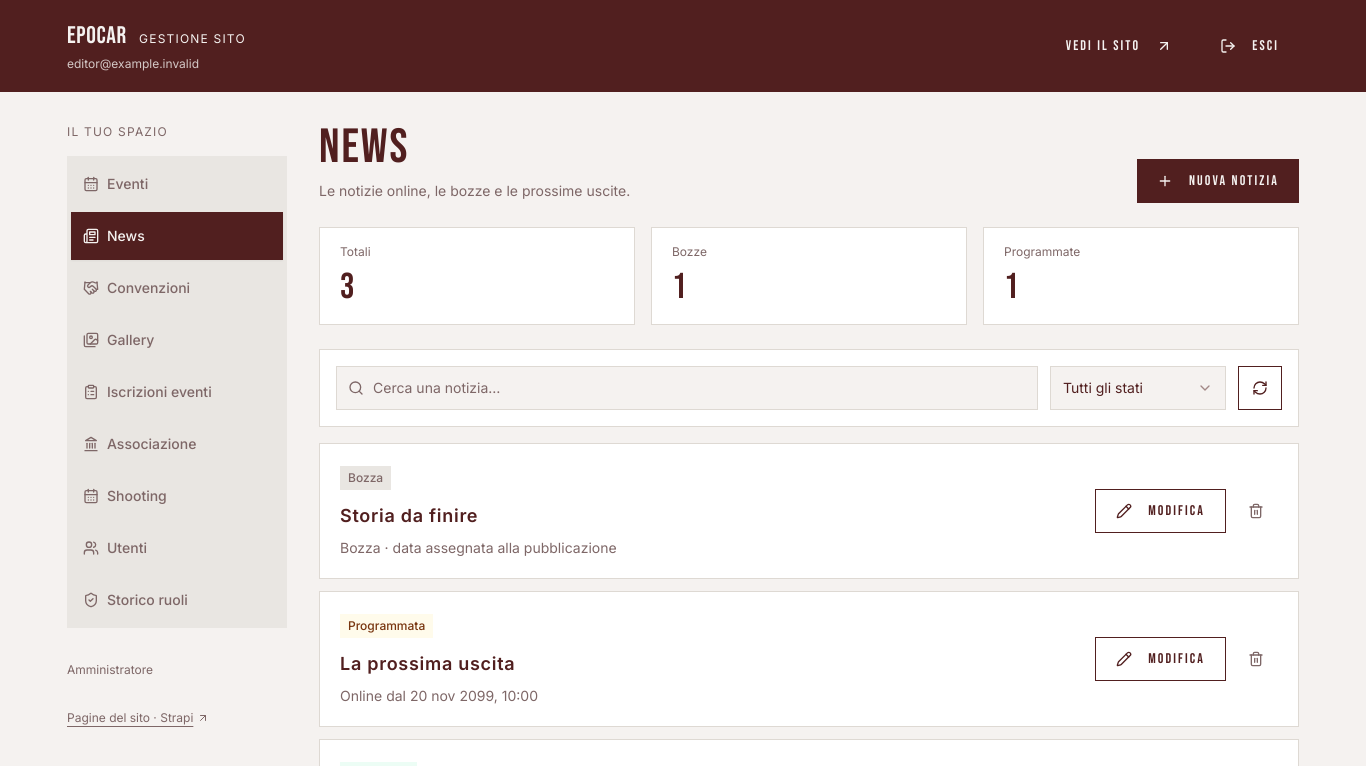
Test: mobile-first content dashboard › opens the correct section after editing and searches/filter statuses including scheduled news
Check: the heading "La prossima uscita" is shown, box [340,653,515,674]
Check: the text "Programmata" is shown, box [340,614,433,638]
Press ArrowDown in the dropdown named "Filtra per stato", box [1050,366,1226,410]
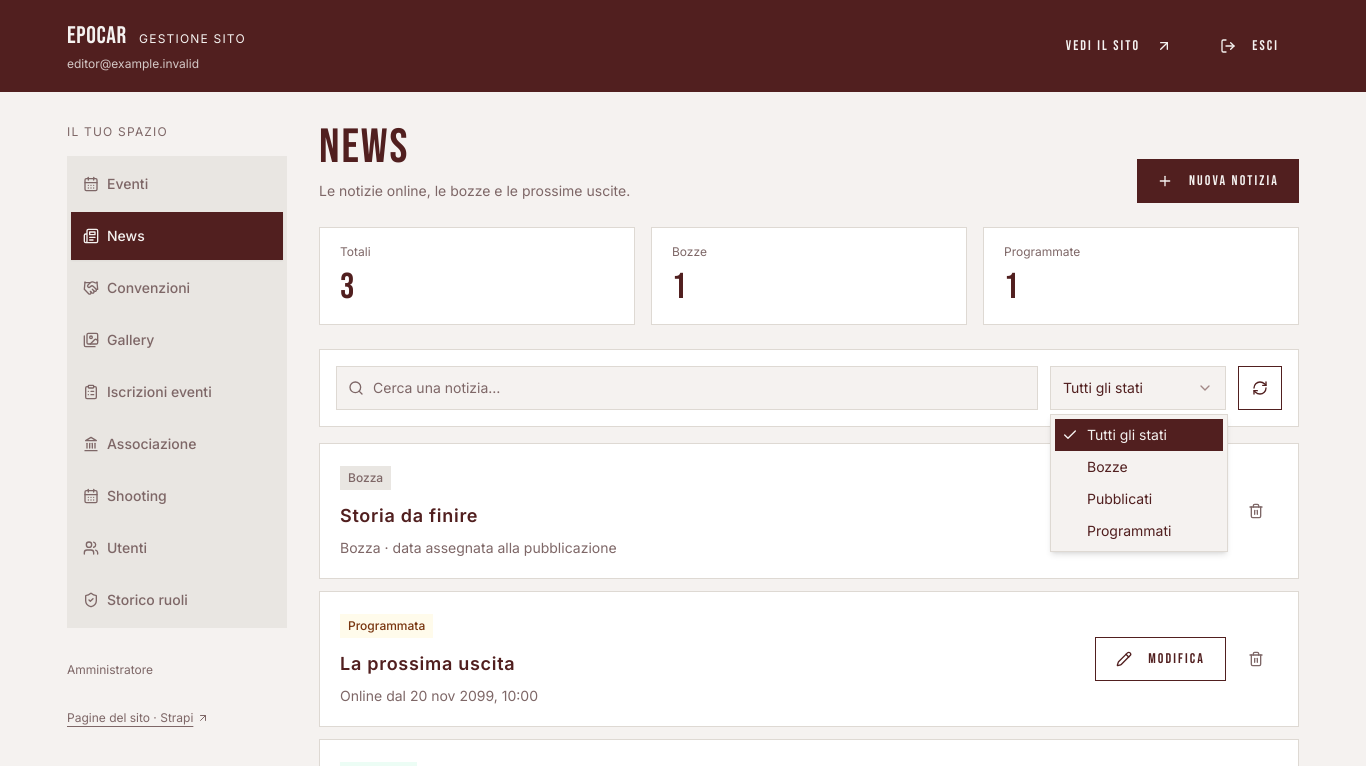
Click the option "Programmati": (1129, 530) [1087,522,1172,539]
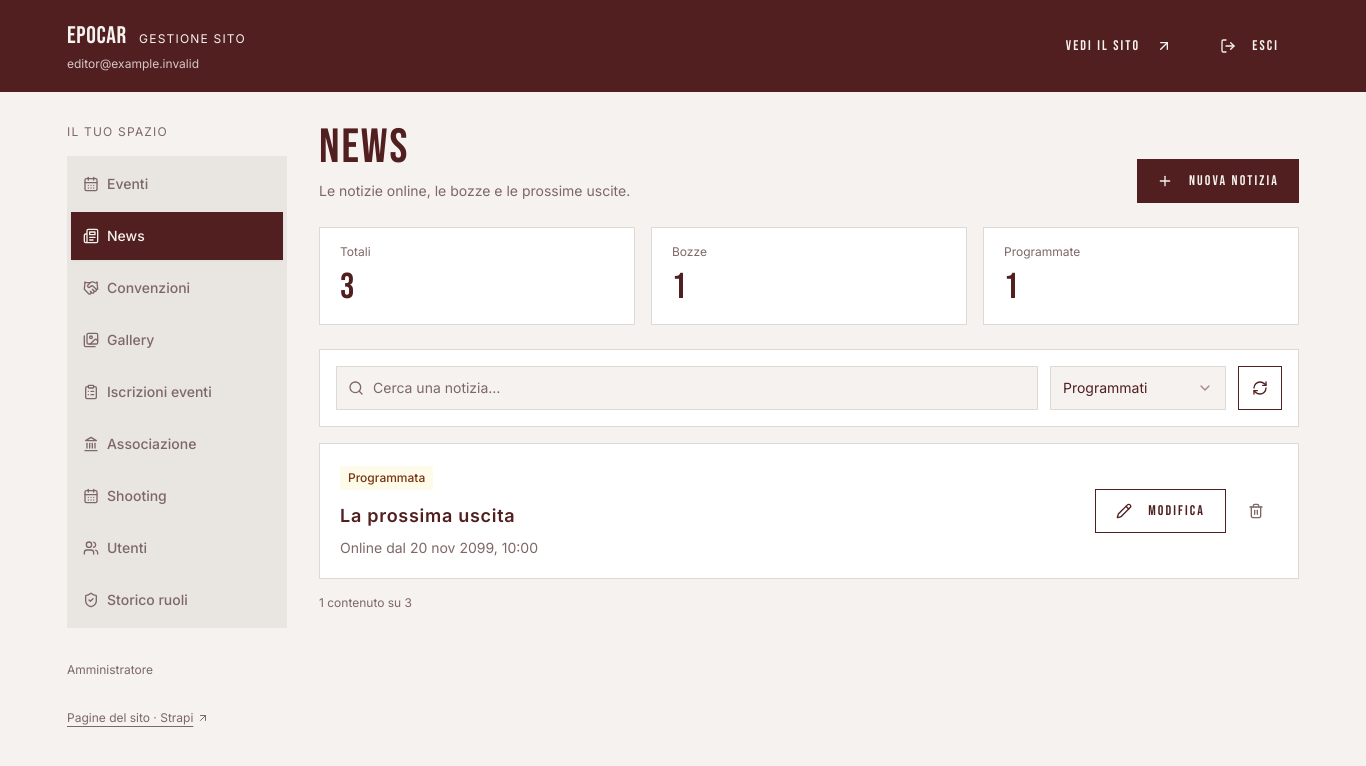
Check: the heading "La prossima uscita" is shown, box [340,505,515,526]
Check: the link "Storia da finire" is gone
In the search field: (687, 388) [336,366,1038,410], type "inesistente"
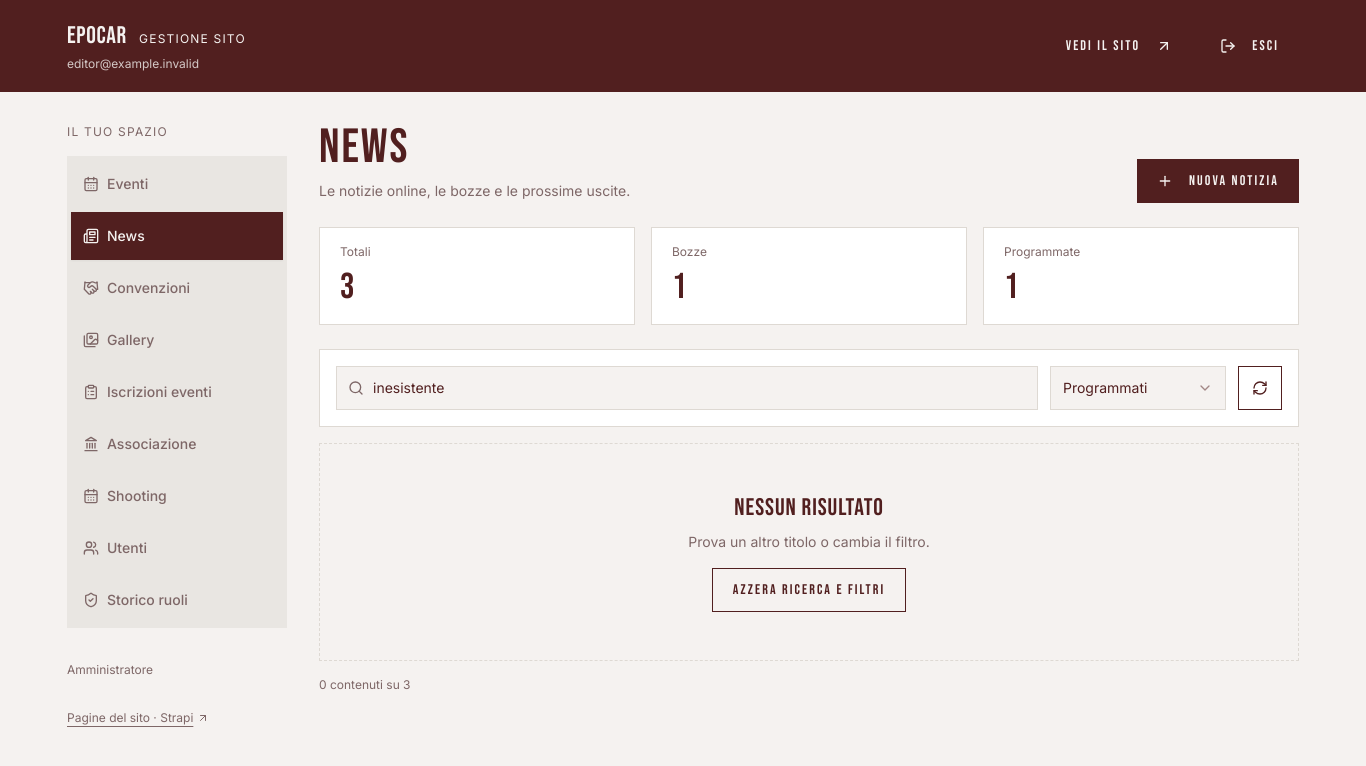
Check: the heading "Nessun risultato" is shown, box [734,493,884,522]
Click the button "Azzera ricerca e filtri": (809, 590) [712,568,906,612]
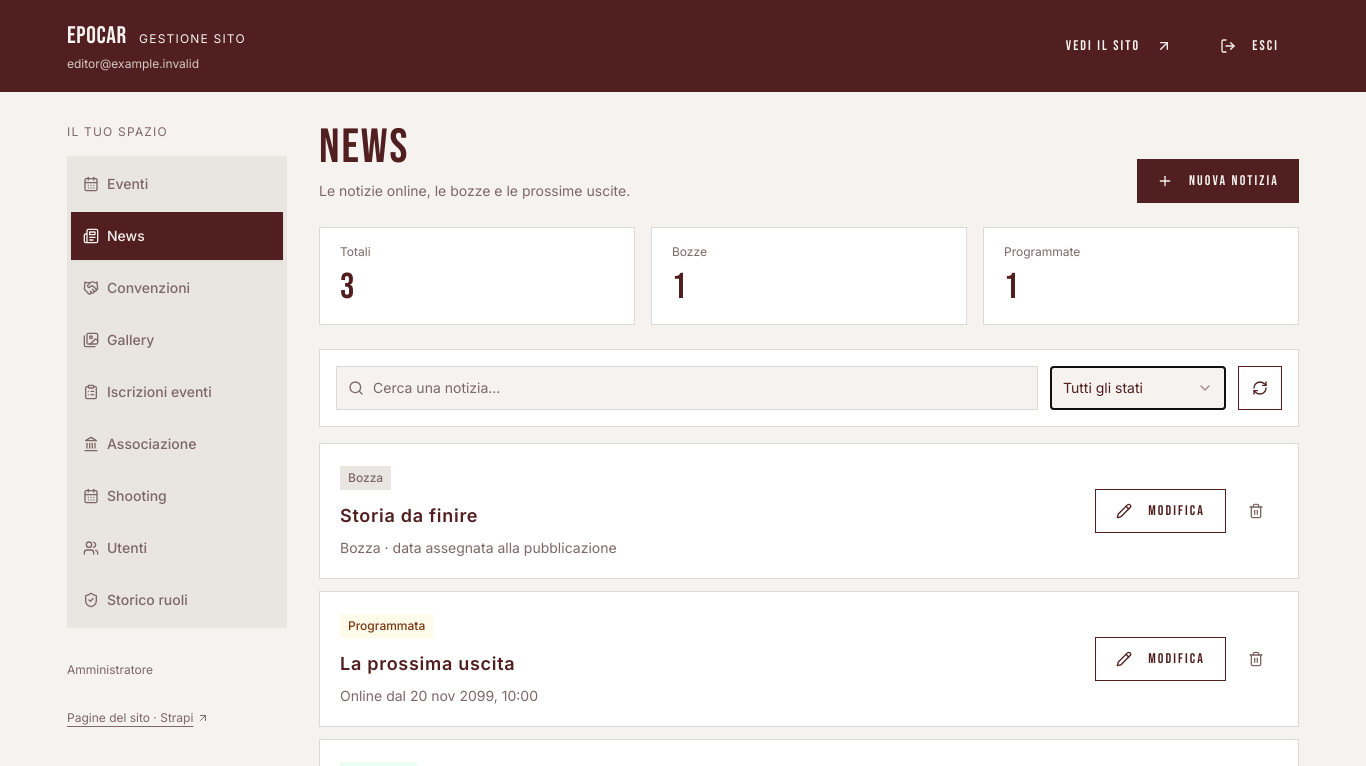
Check: the heading "Storia da finire" is shown, box [340,505,478,526]
